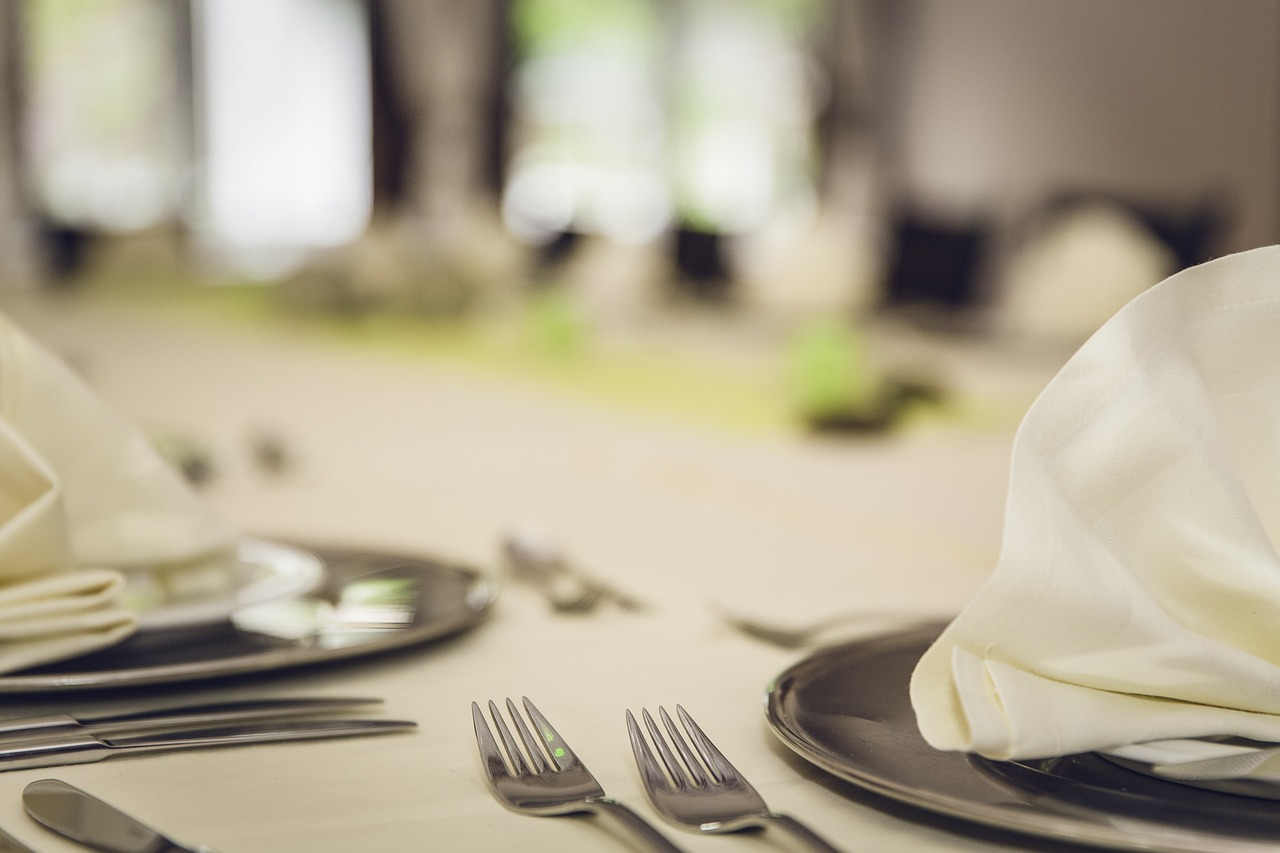knife: (0, 688, 393, 752), (0, 717, 422, 771), (18, 773, 224, 851)
